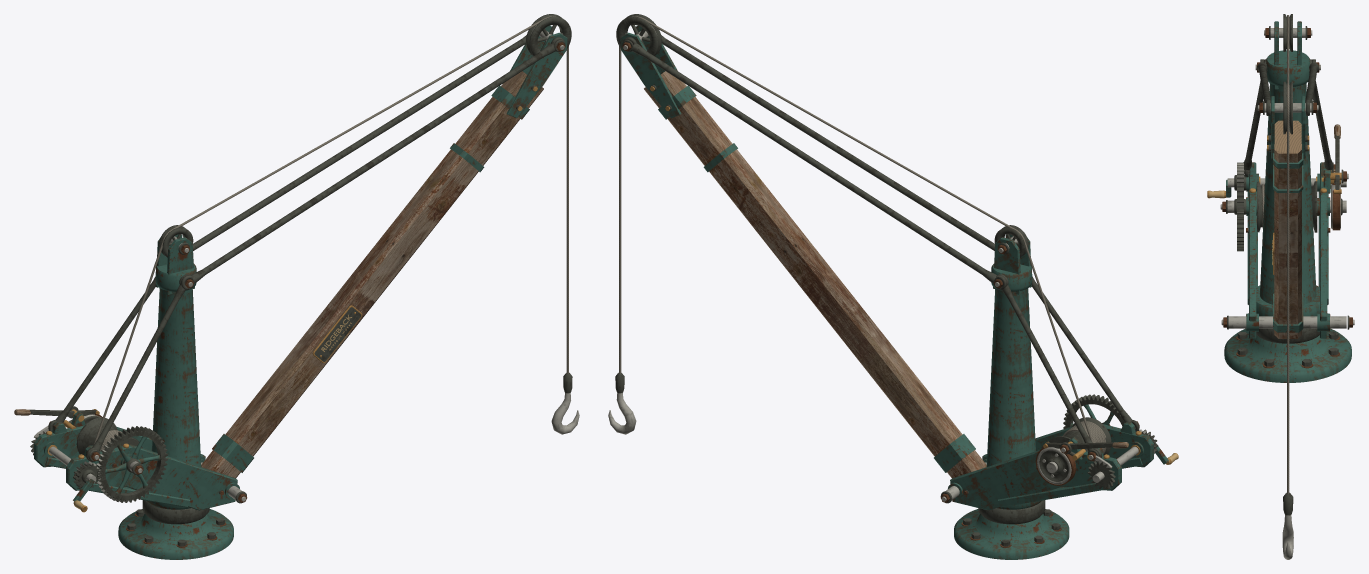
The model's file is HarbourCrane.gltf.
The picture shows the model from 3 angles, left to right: view 1: azimuth 30°, elevation 25°; view 2: azimuth 150°, elevation 25°; view 3: azimuth 270°, elevation 25°; orthographic projection. The views are drawn at different scales.
Parts seen in each view (by area): view 1: HarbourCrane; view 2: HarbourCrane; view 3: HarbourCrane.
Part boxes in pixels (x1,y1,x2,y2): HarbourCrane: (14,14,579,559); HarbourCrane: (608,14,1178,559); HarbourCrane: (1207,14,1354,559).
Size of the model in its own units: 6.72 by 5.08 by 1.43.
Materials: 9 (8 with a texture image).
